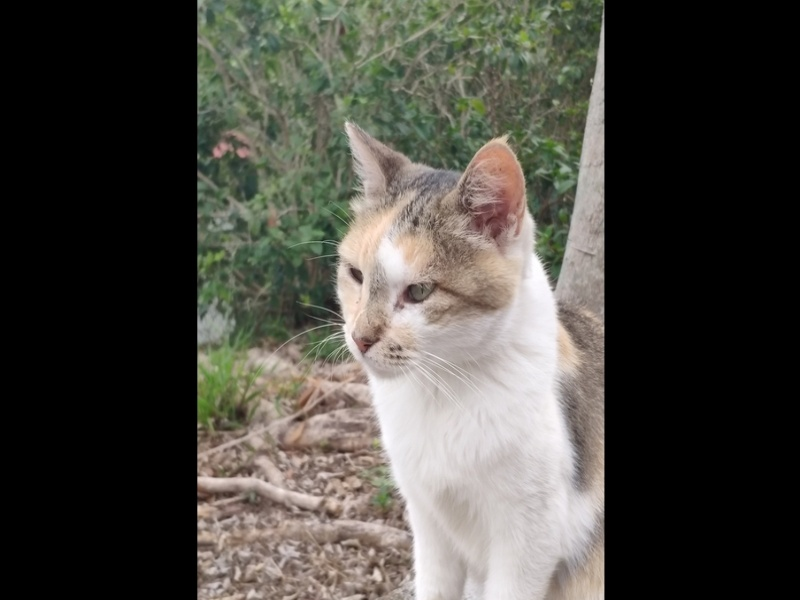cat: (321, 116, 600, 597)
